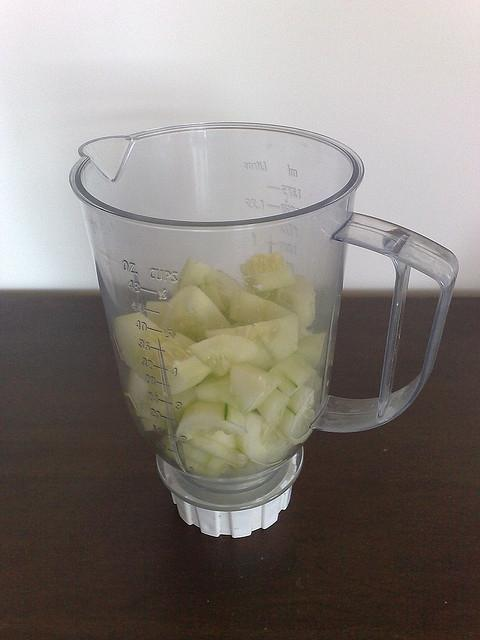cucumber: (116, 311, 210, 393), (158, 284, 233, 342), (187, 333, 275, 378), (170, 256, 230, 316), (226, 362, 282, 417), (258, 275, 315, 328), (173, 402, 248, 442), (235, 411, 289, 466), (239, 251, 298, 294), (230, 289, 298, 324), (253, 314, 299, 364), (268, 352, 317, 398), (278, 384, 314, 446), (184, 438, 250, 468), (256, 388, 290, 429), (291, 332, 326, 368), (125, 369, 150, 419), (194, 372, 234, 400), (185, 457, 221, 478), (146, 301, 168, 327), (140, 414, 166, 431)
